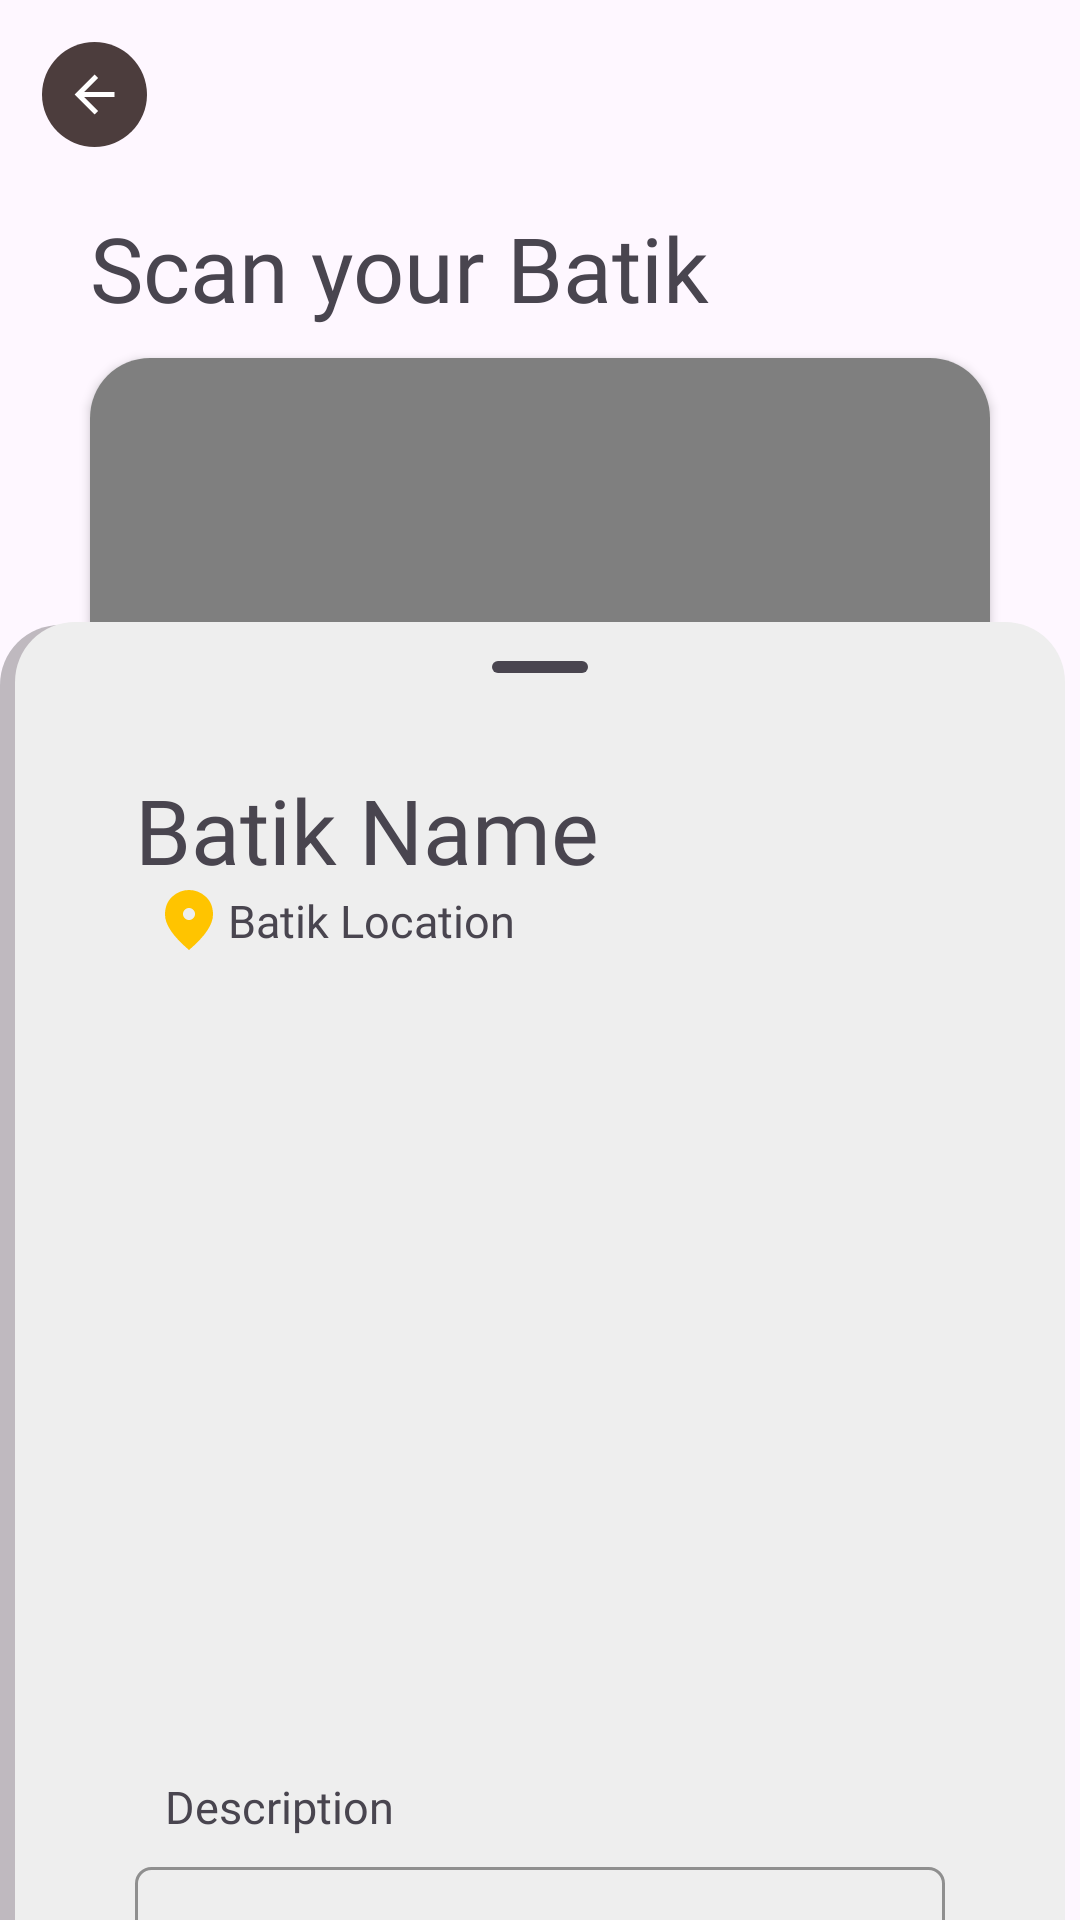

Where to tap for icons on this 1080px x 1920px app screen, as (x,y):
back: (94,94)
